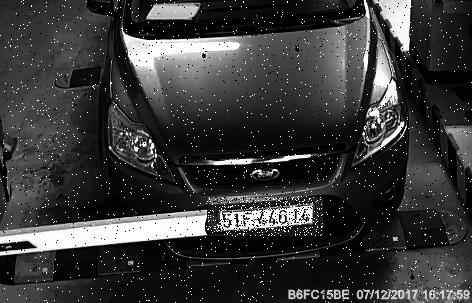License-plate: (209, 198, 324, 237)
